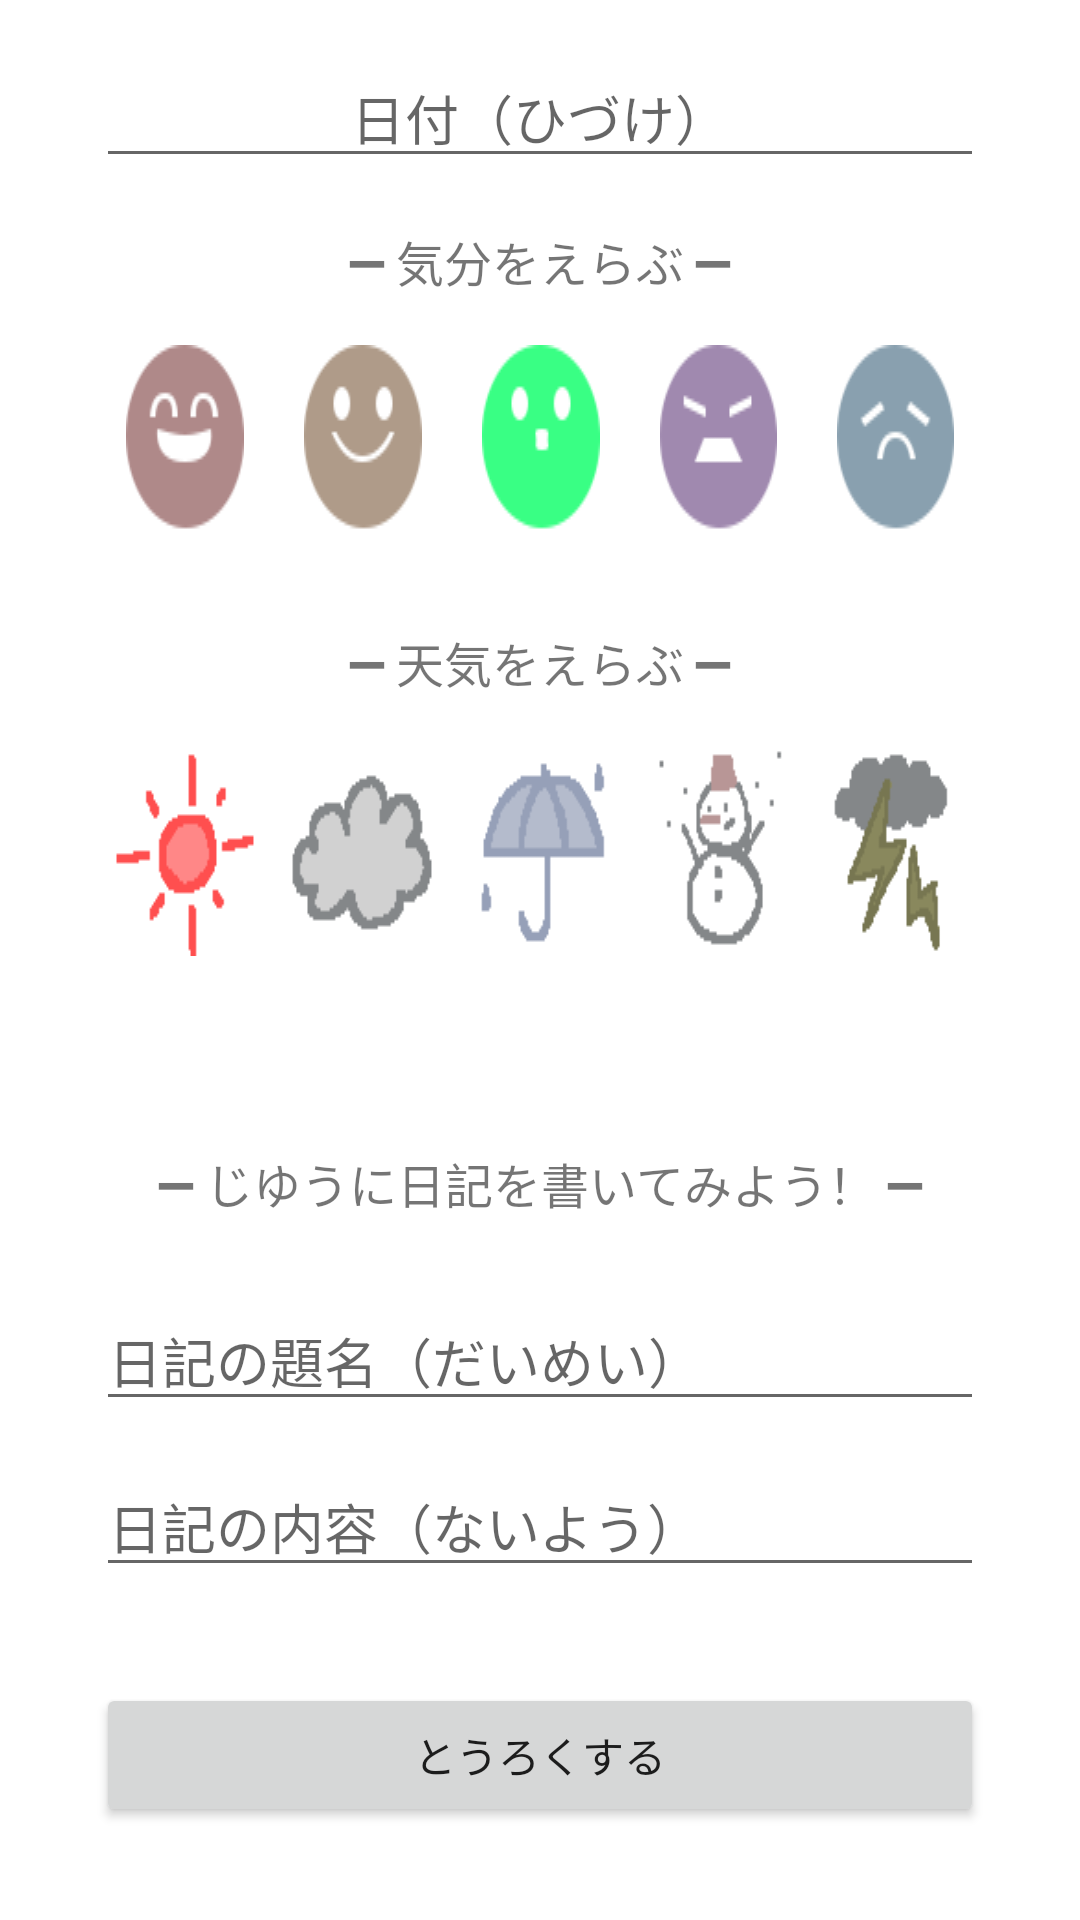

Screen size 1080 x 1920. Icon name, then its center in pixels as (x,y):
segmented angry: (718,437)
segmented cloudy: (362,852)
segmented happy: (185,437)
segmented rainy: (542,852)
segmented sad: (895,437)
segmented smile: (363,437)
segmented snow: (720,848)
segmented soso: (541,437)
segmented sunny: (185,855)
segmented thunder: (891,852)
